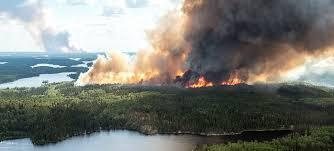fire: (181, 70, 244, 88)
